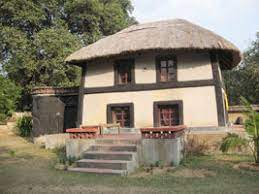Mud House: (64, 26, 236, 156)
